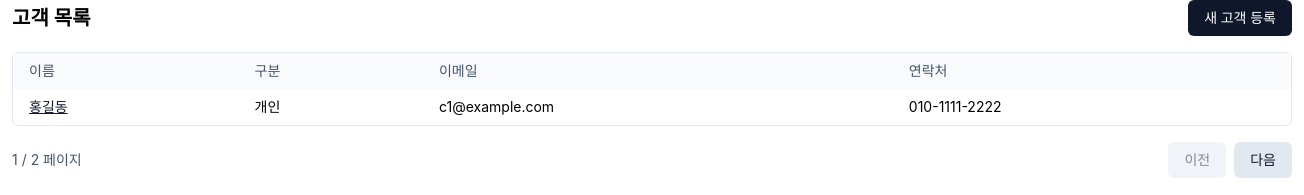
it: CustomersListPage › moves to the next page and fetches it
Expected: the link "홍길동" is shown, [29,98,68,115]
Click the button "다음" at (1263, 160), box [1234,142,1292,178]
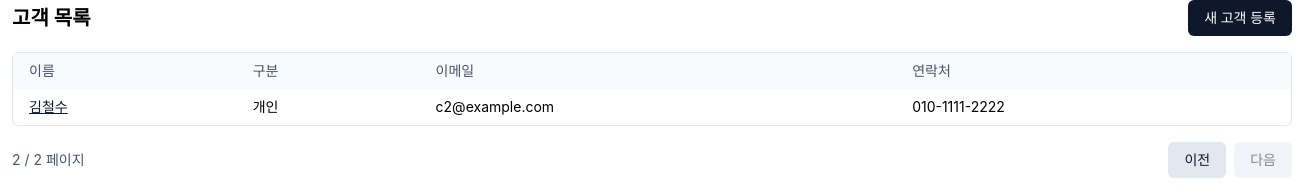
Expected: the link "김철수" is shown, [29,98,68,115]
Expected: the link "홍길동" is gone
